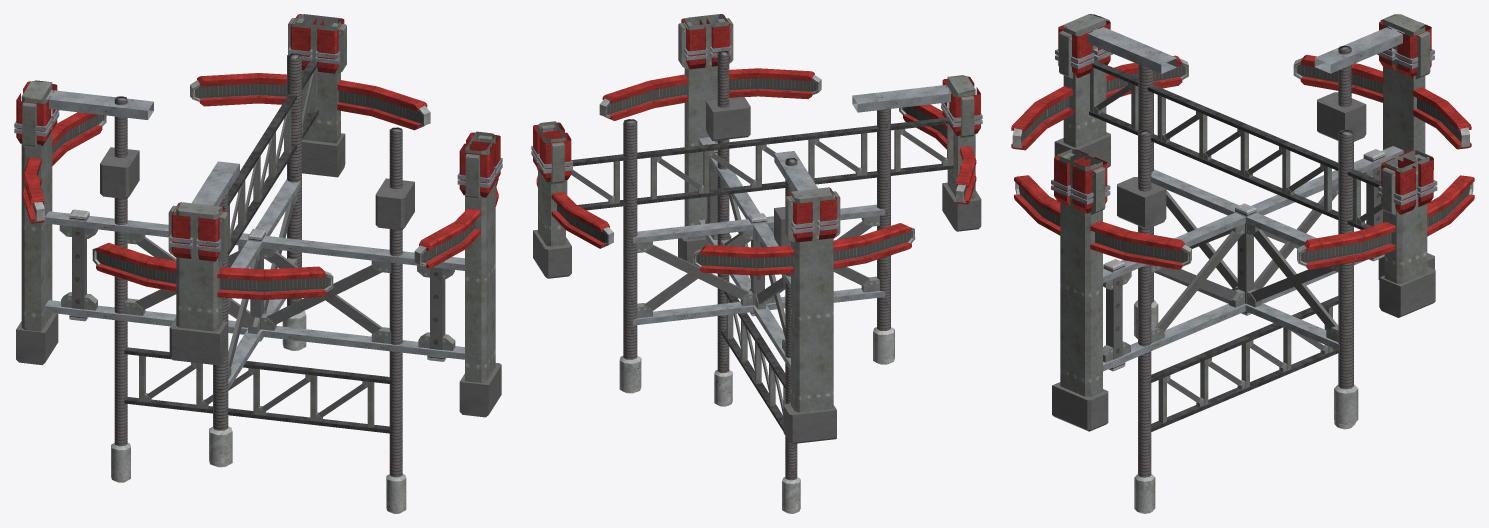
File: Ob_UnderCircularPlatformLarge_RC.fbx
3 views of the same model, side by side, from view 1: azimuth 30°, elevation 25°; view 2: azimuth 150°, elevation 25°; view 3: azimuth 270°, elevation 25° (orthographic). The views are drawn at different scales.
Parts seen in each view (by area): view 1: Ob_UnderCircularPlatformLarge_RC; view 2: Ob_UnderCircularPlatformLarge_RC; view 3: Ob_UnderCircularPlatformLarge_RC.
Part boxes in pixels (x1,y1,x2,y2): Ob_UnderCircularPlatformLarge_RC: (14,14,502,513); Ob_UnderCircularPlatformLarge_RC: (531,14,982,513); Ob_UnderCircularPlatformLarge_RC: (1011,14,1474,513).
Size of the model in its own units: 4054 by 3710 by 4120.
